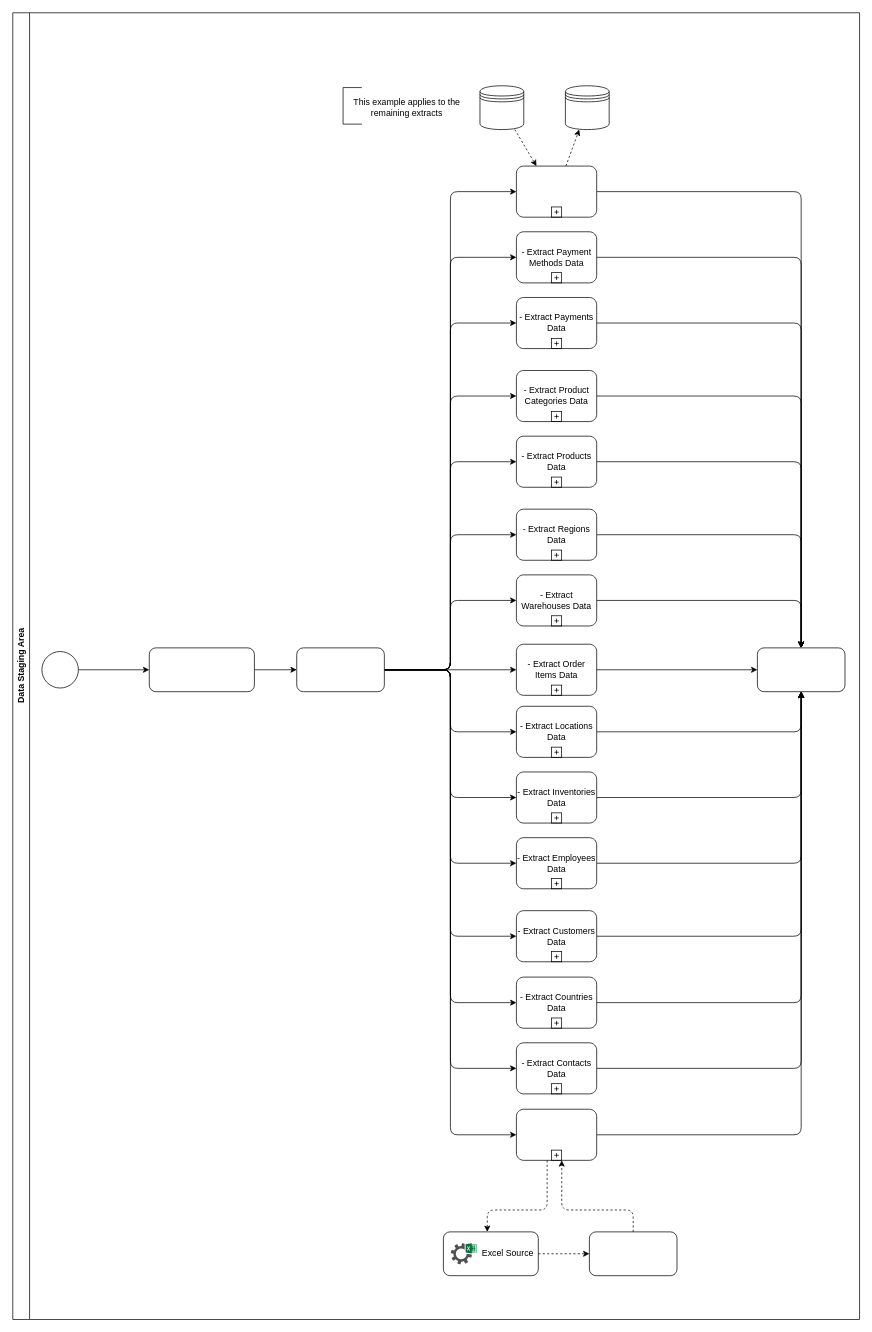
This 872x1332 diagram has some shape labels left out. Each missing label, with the centre of its shape:
"- Extract Deliveries Excel Data" belongs at (x=556, y=1134).
"- Extract Orders Data" belongs at (x=556, y=191).
"Calculate and GetLastETLCutoffTime" belongs at (x=201, y=669).
"Clean DSA" belongs at (x=340, y=669).
"dbo.orders" belongs at (x=501, y=107).
"dsa.orders" belongs at (x=587, y=107).
"Insert Cutoff" belongs at (x=801, y=669).
"Insert into destination dsa.deliveries_excel" belongs at (x=633, y=1253).
